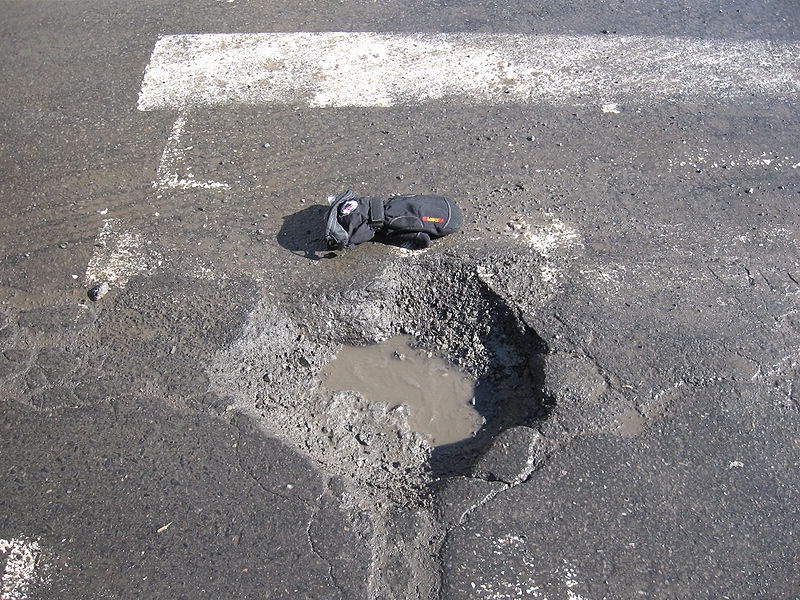pothole: (253, 261, 557, 481)
